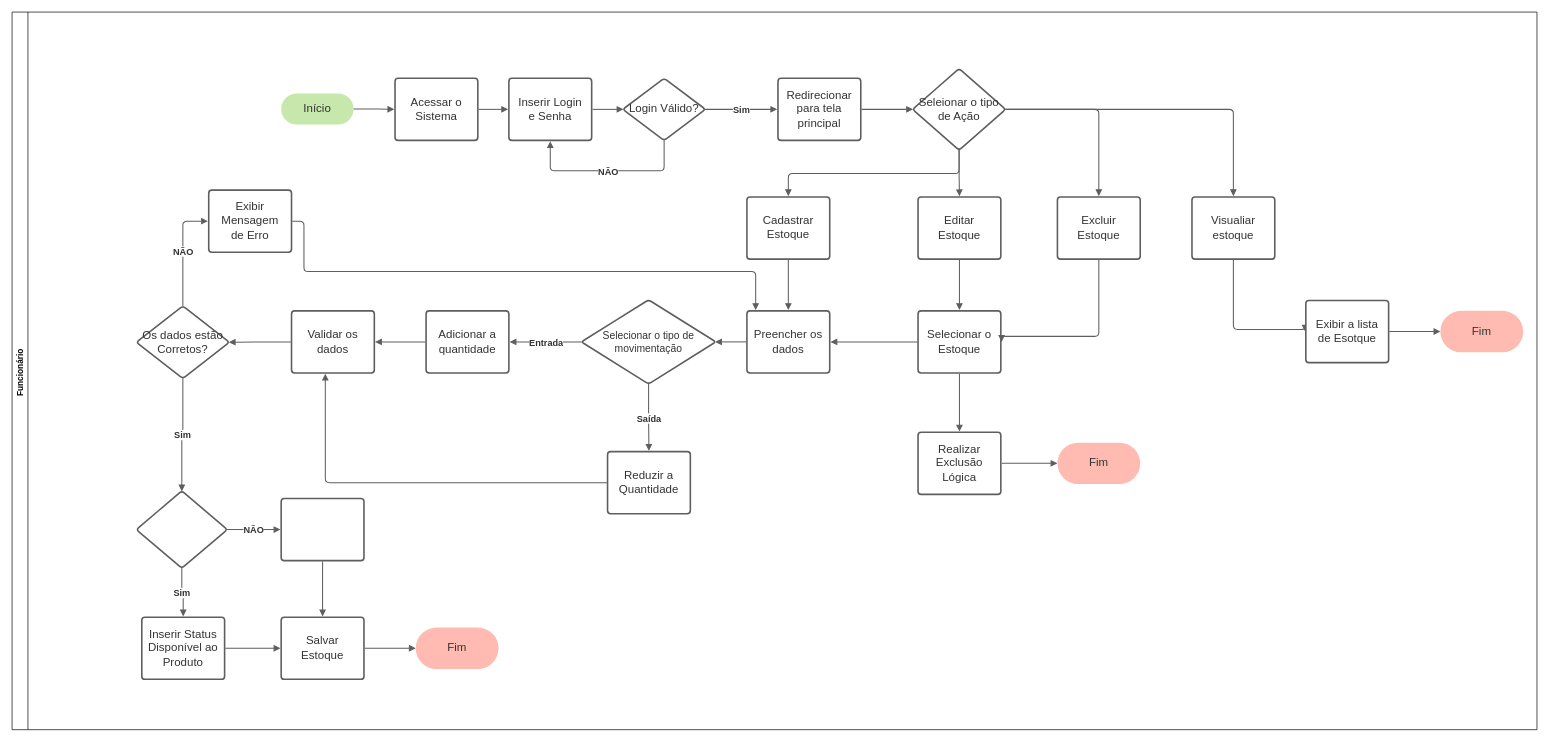
Image size: 1549x742. Some labels were removed from this diagram. Each missing label, with the centre of its shape:
Inserir Status Indisponível ao Produto: the point at 322,529
Qtd Maior que Zero?: the point at 181,529
